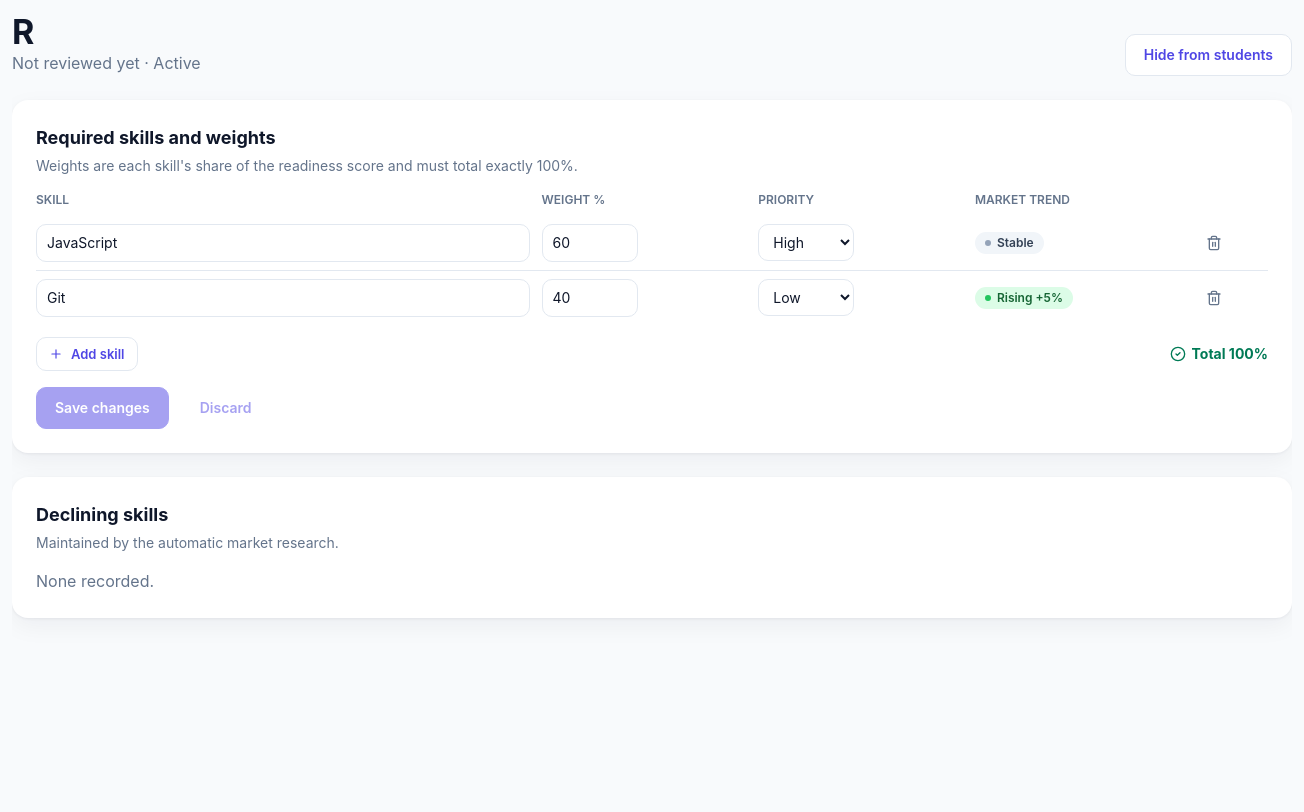
RoleEditor weight validation › rejects duplicate and empty skill names
Replace the text in the field named "Skill 2 name" with "javascript" at (283, 298), box [36, 279, 530, 317]
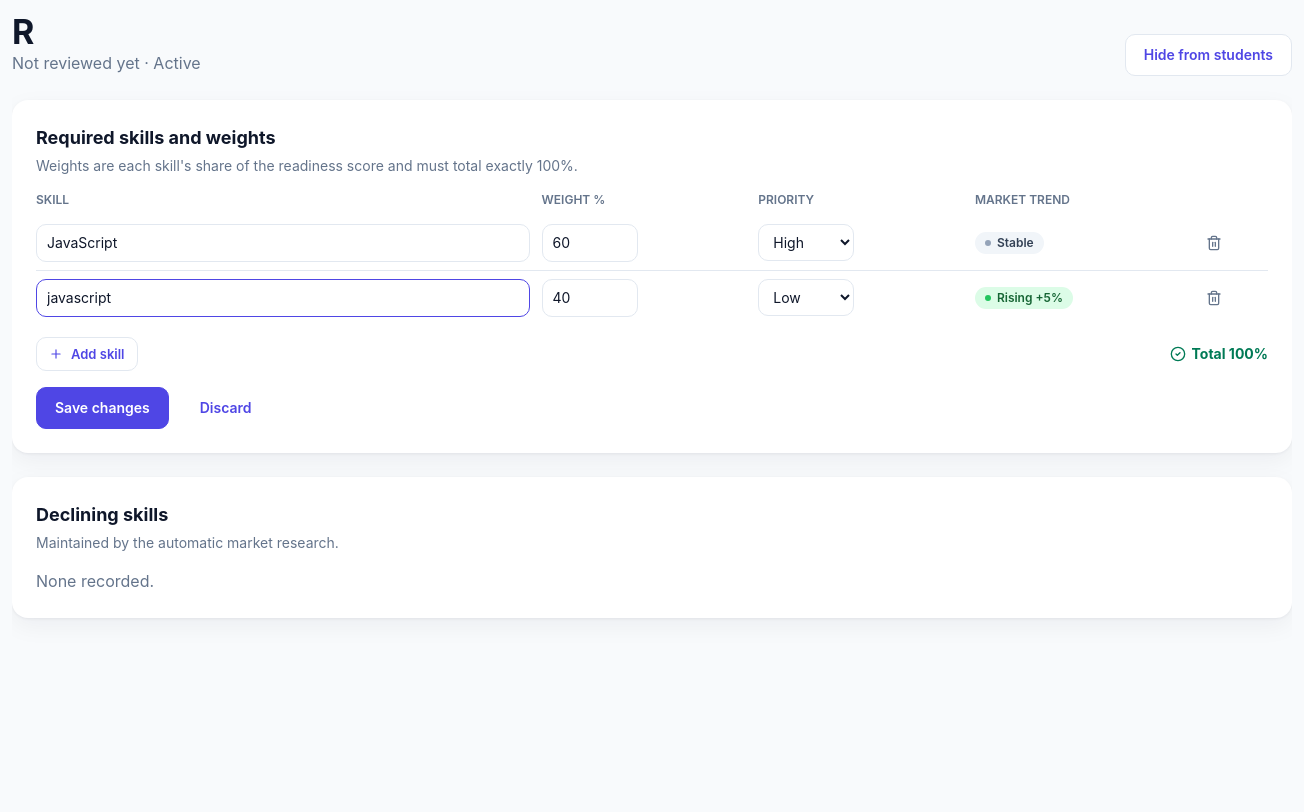
Click the button "Save changes" at (102, 408), box [36, 387, 169, 429]
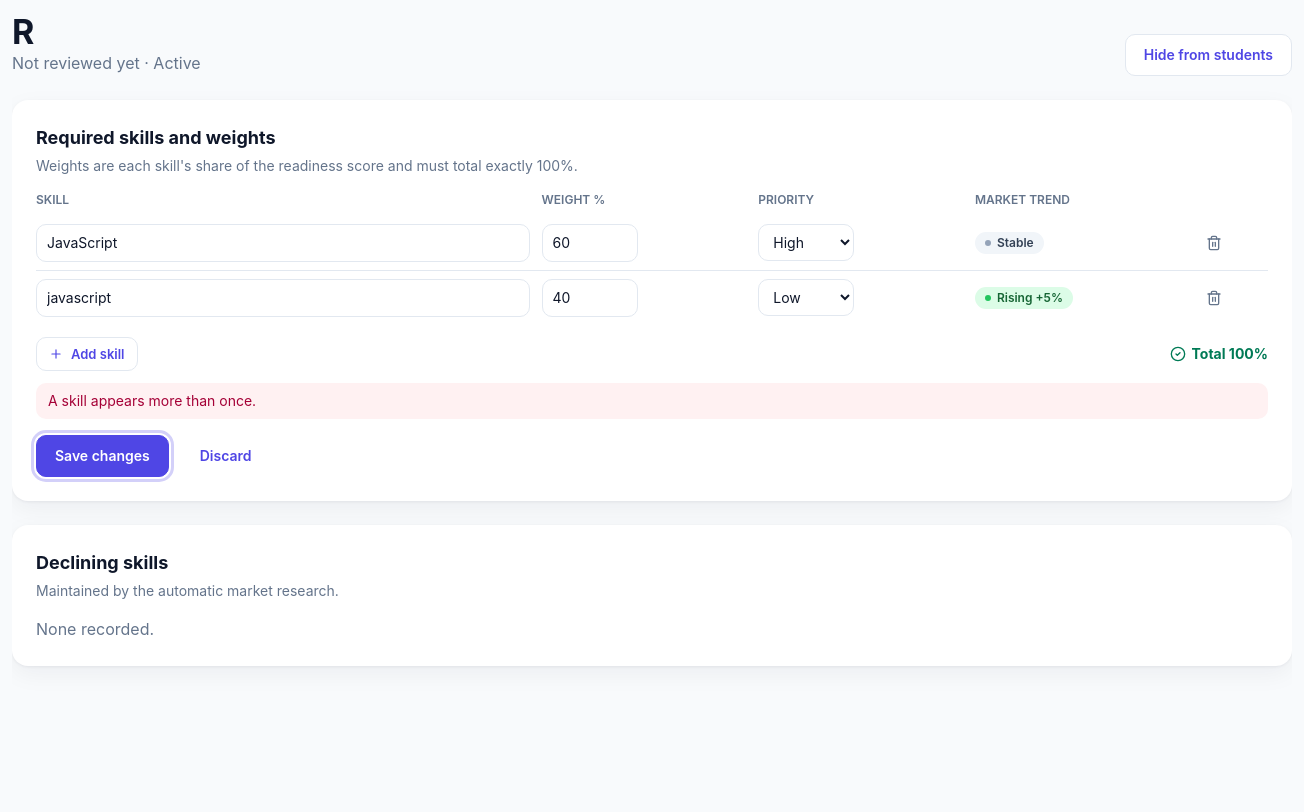
Result: the text "A skill appears more than once." is shown at [36, 383, 1268, 419]
